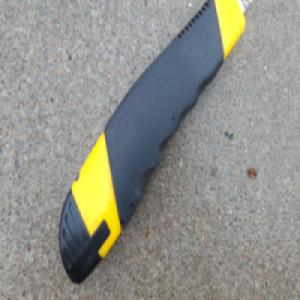Cutter: (60, 0, 249, 281)
